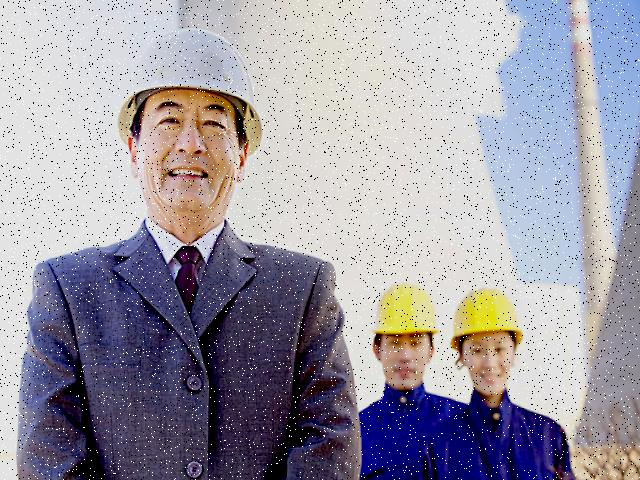Helmet: (114, 22, 268, 166), (448, 280, 528, 355), (369, 278, 444, 347)
